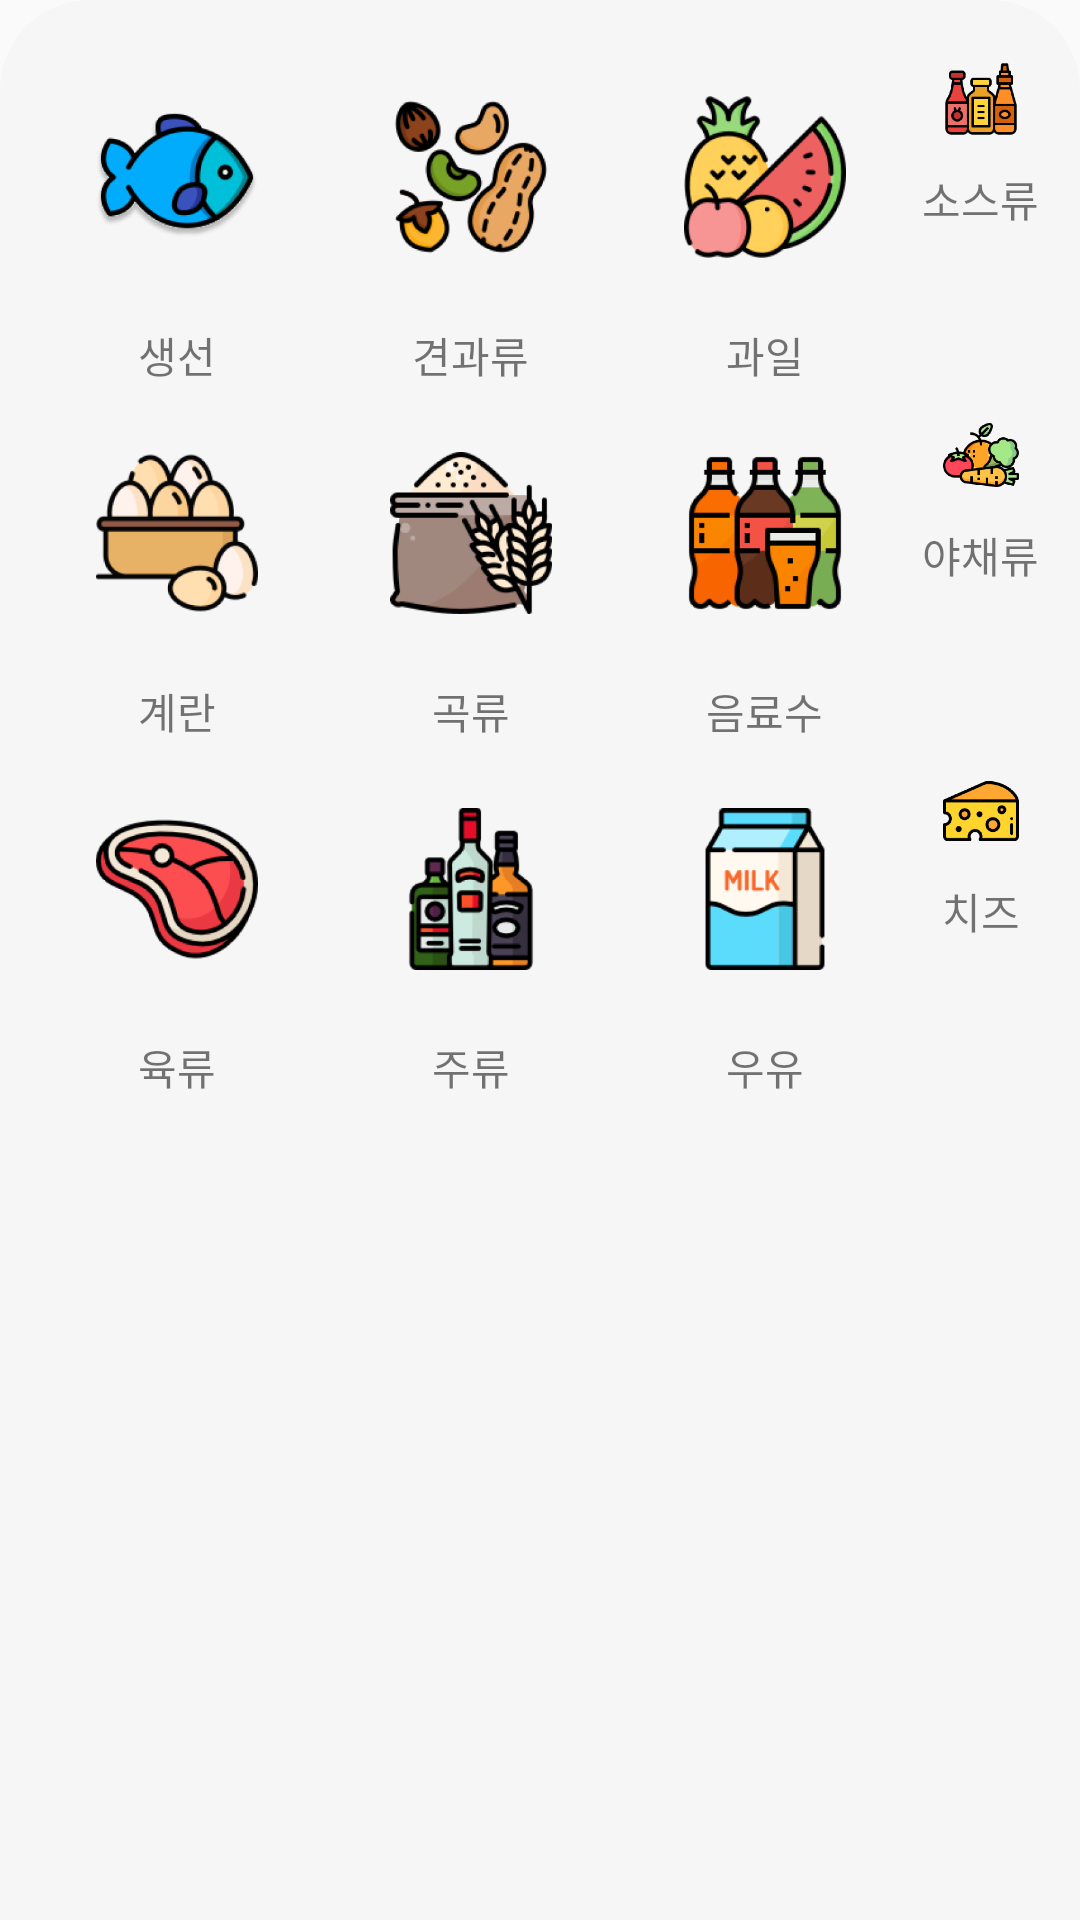

Icons on this 1080px x 1920px Android screen, each with its box as {"x1": x1, "y1": y1, "x2": x2, "y2": y2}:
alcohol: {"x1": 409, "y1": 808, "x2": 533, "y2": 970}
cheese: {"x1": 943, "y1": 781, "x2": 1019, "y2": 841}
drink: {"x1": 689, "y1": 457, "x2": 841, "y2": 609}
egg: {"x1": 96, "y1": 454, "x2": 258, "y2": 612}
fish: {"x1": 100, "y1": 113, "x2": 254, "y2": 234}
fruit: {"x1": 684, "y1": 96, "x2": 846, "y2": 258}
grain: {"x1": 390, "y1": 452, "x2": 552, "y2": 614}
meat: {"x1": 96, "y1": 819, "x2": 258, "y2": 959}
nuts: {"x1": 395, "y1": 101, "x2": 547, "y2": 253}
sauce: {"x1": 945, "y1": 63, "x2": 1017, "y2": 135}
veggie: {"x1": 943, "y1": 423, "x2": 1019, "y2": 487}
